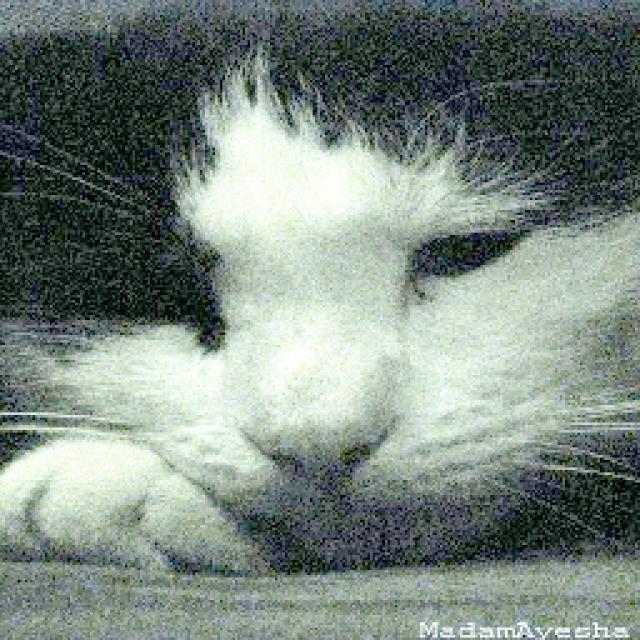cat: (2, 12, 640, 578)
